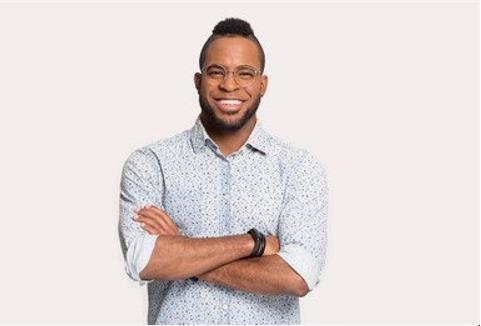Sober: (197, 37, 258, 119)
